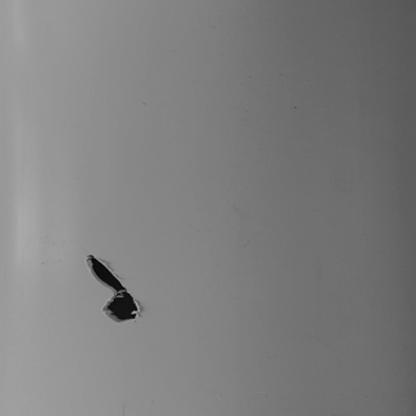kongdong: (84, 255, 144, 324)
